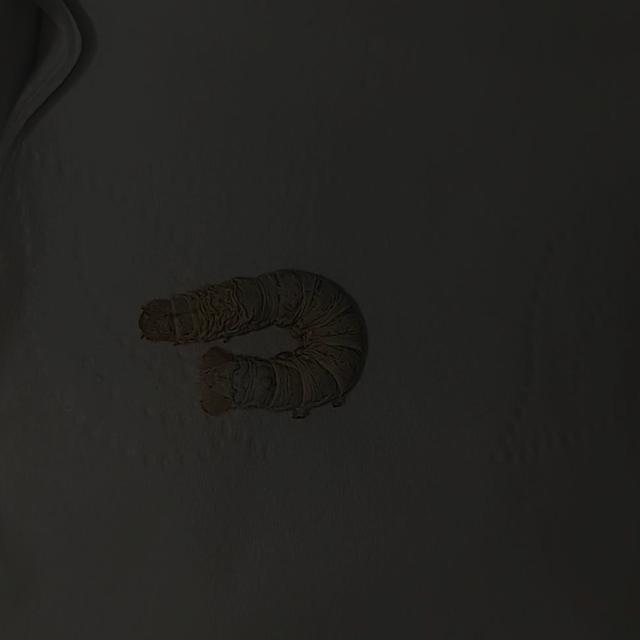Healthy: (106, 232, 389, 444)
